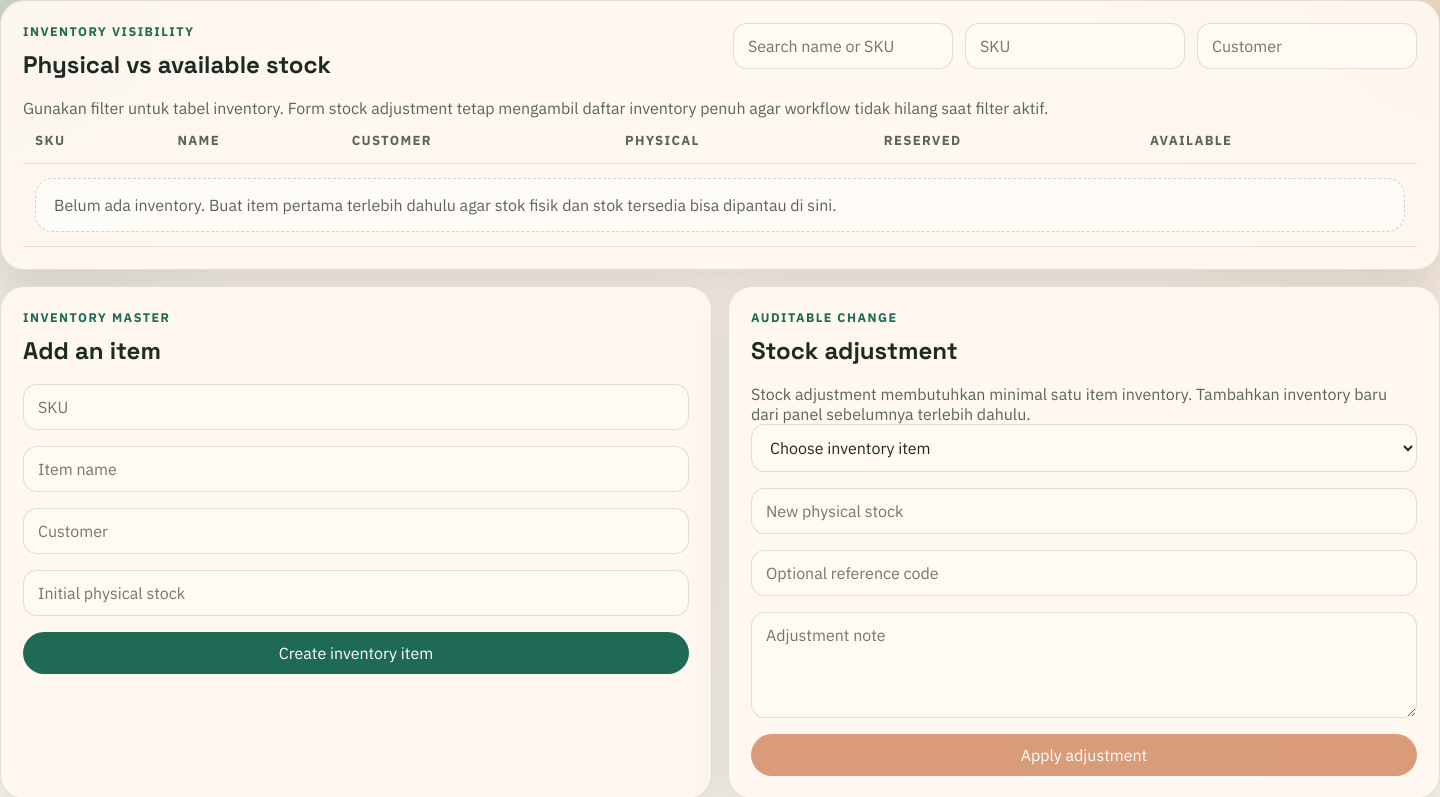
Test: InventoryPage › dismisses the feedback banner when the close button is clicked
Expected: the form "Create inventory item" is shown, [23,384,689,674]
Type "SKU-001" into the field with placeholder "SKU" below "Add an item" at (356, 407), box [23,384,689,430]
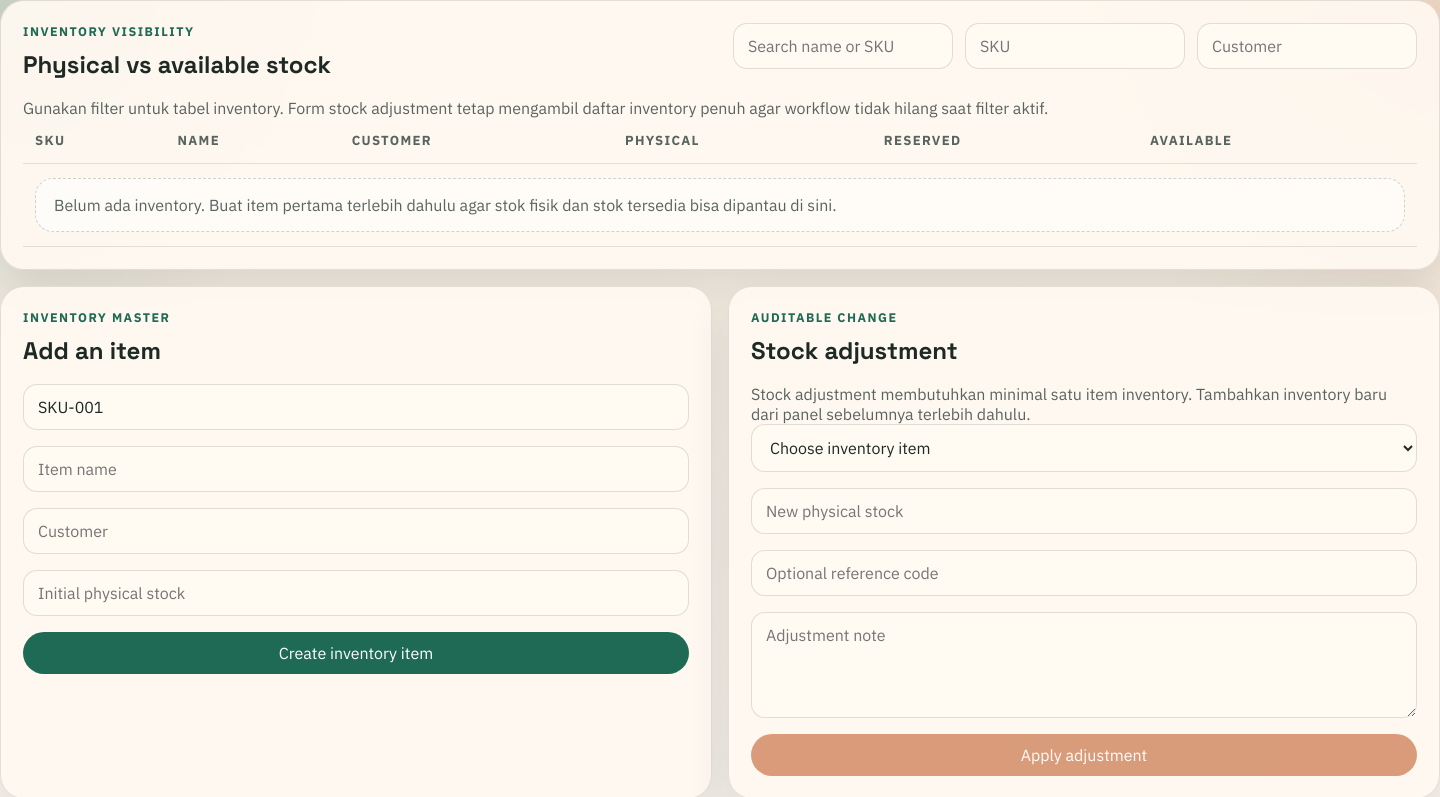
Type "Widget A" into the field with placeholder "Item name" at (356, 469), box [23,446,689,492]
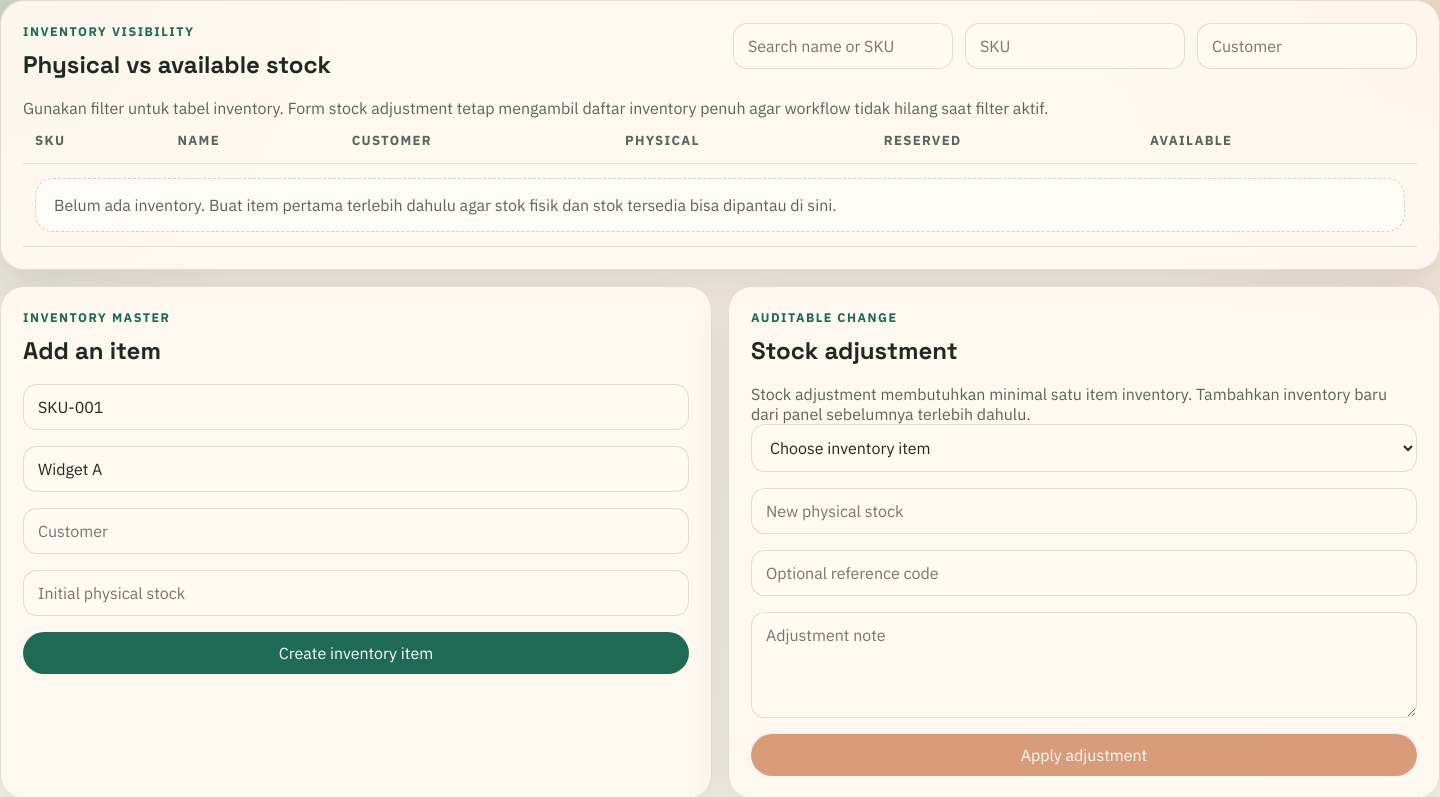
Type "Acme Corp" into the field with placeholder "Customer" below "Add an item" at (356, 531), box [23,508,689,554]
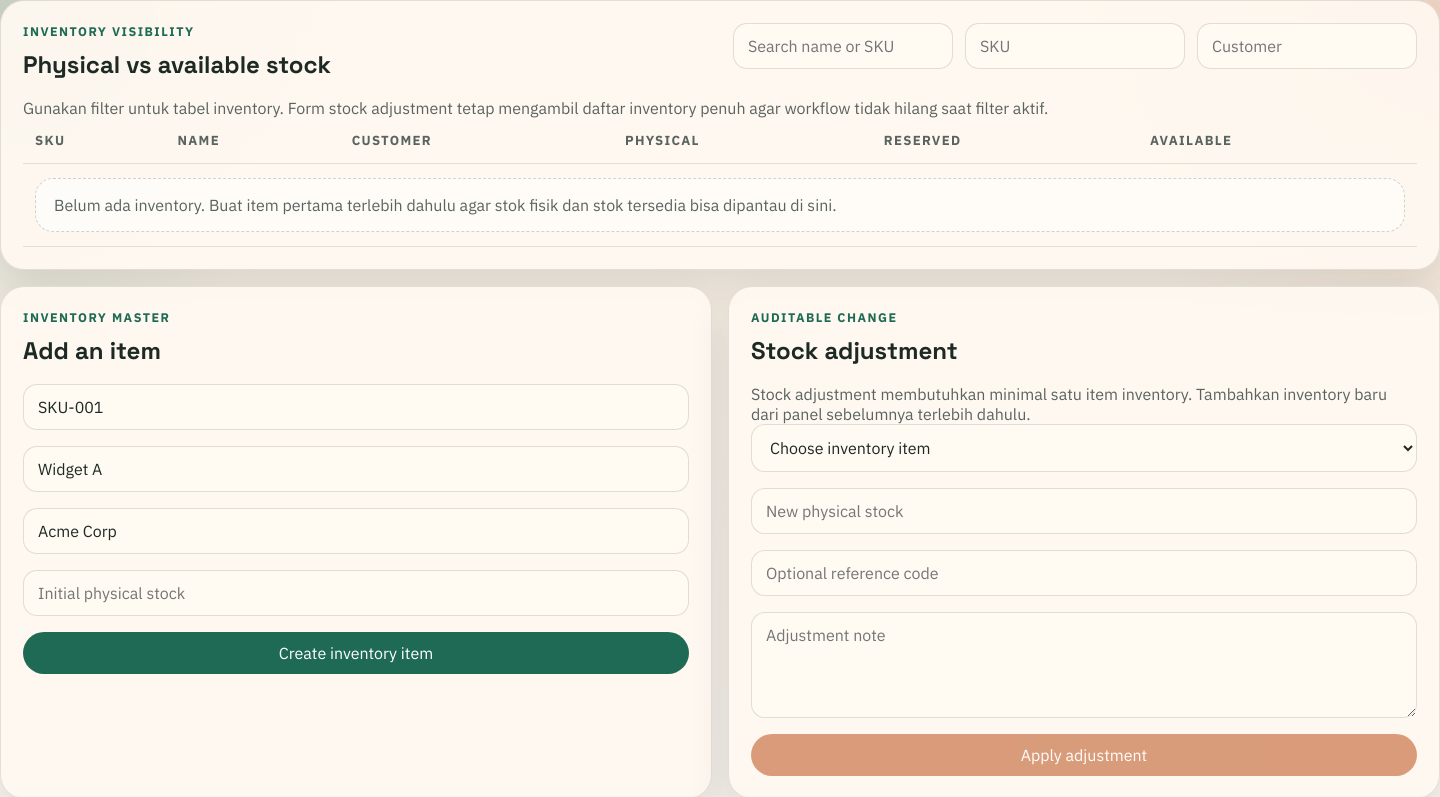
Type "100" into the number field with placeholder "Initial physical stock" at (356, 593), box [23,570,689,616]
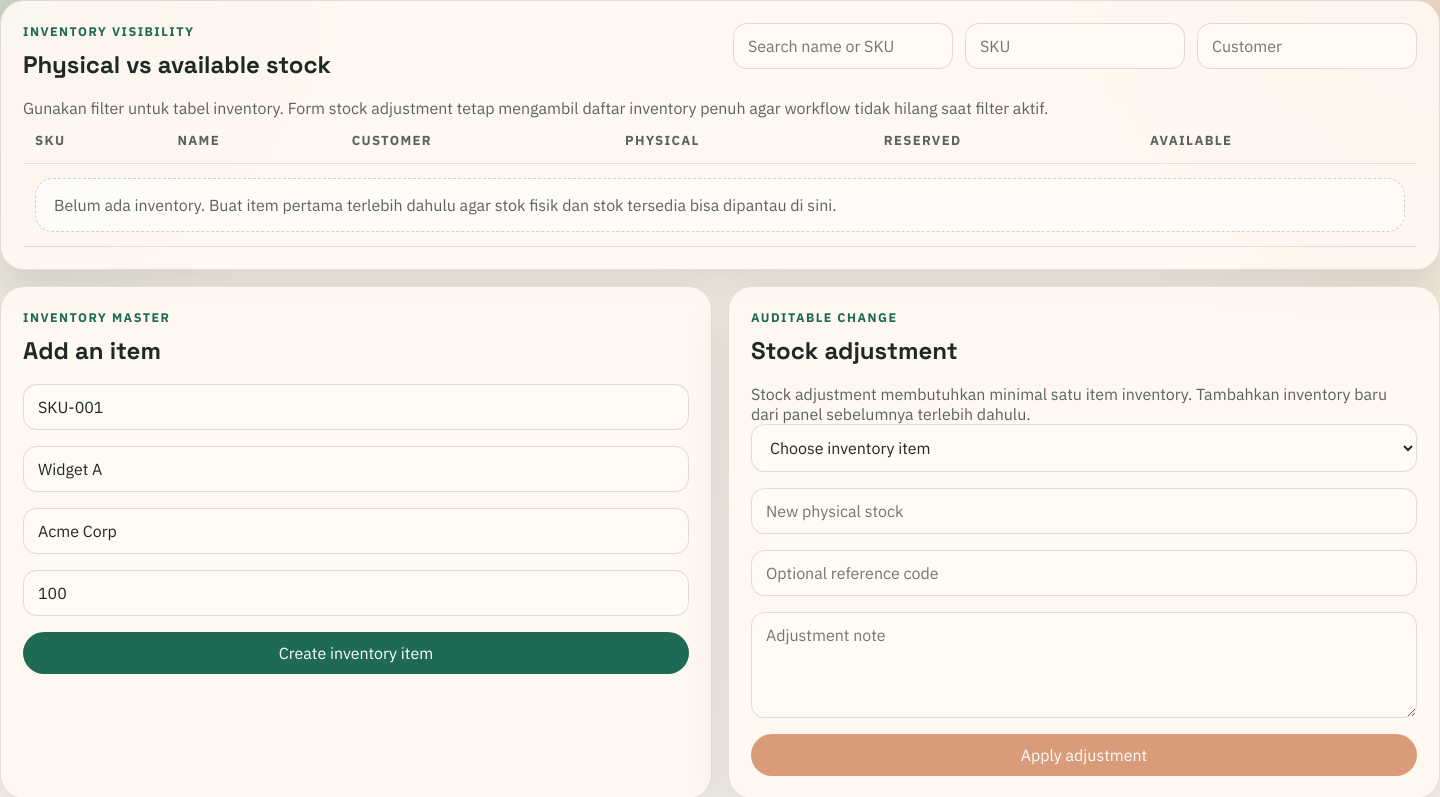
Click the button "Create inventory item" at (356, 653), box [23,632,689,674]
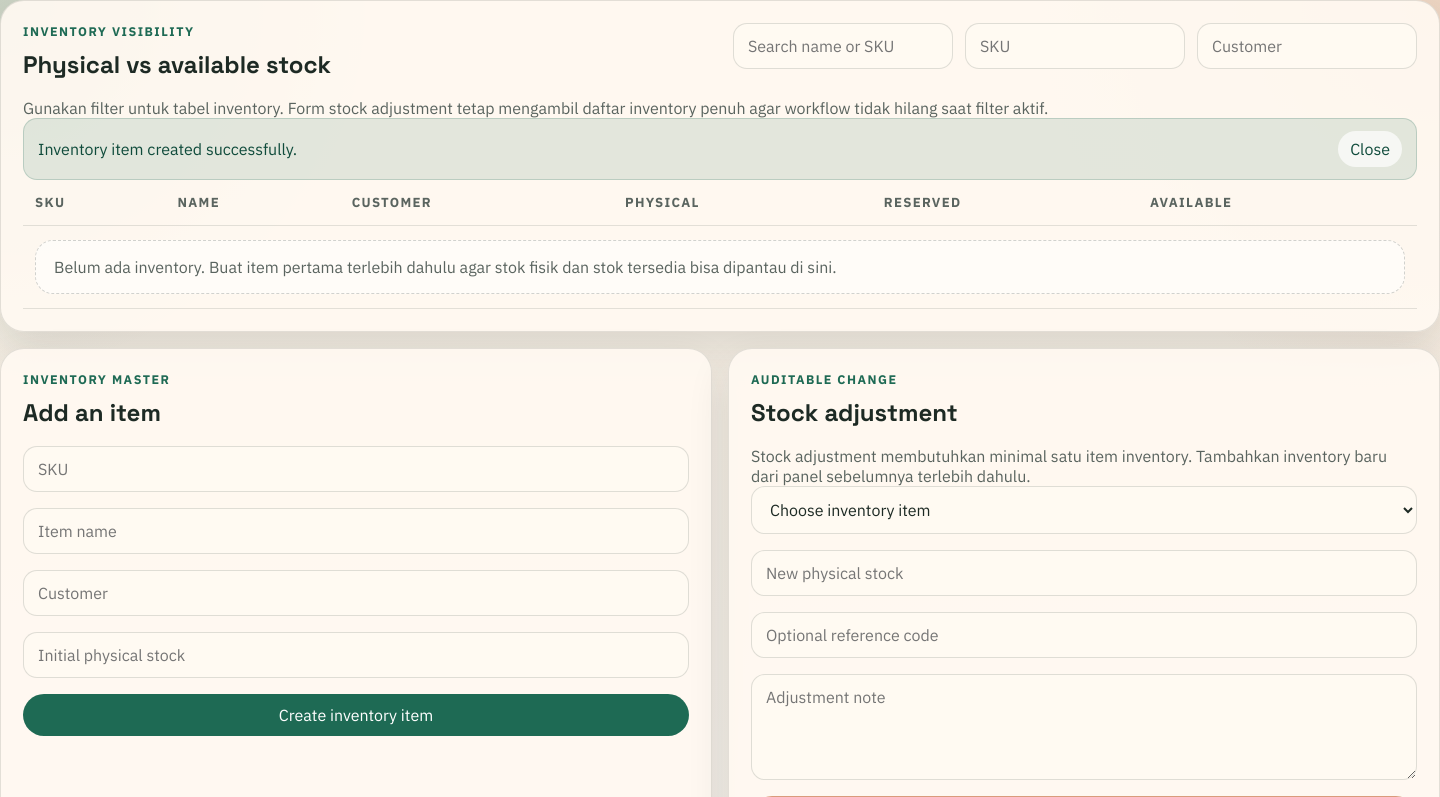
Now the text "Inventory item created successfully." is shown, box [38,139,297,159]
Click the button with aria-label "Dismiss notification" at (1370, 149), box [1338,131,1402,167]
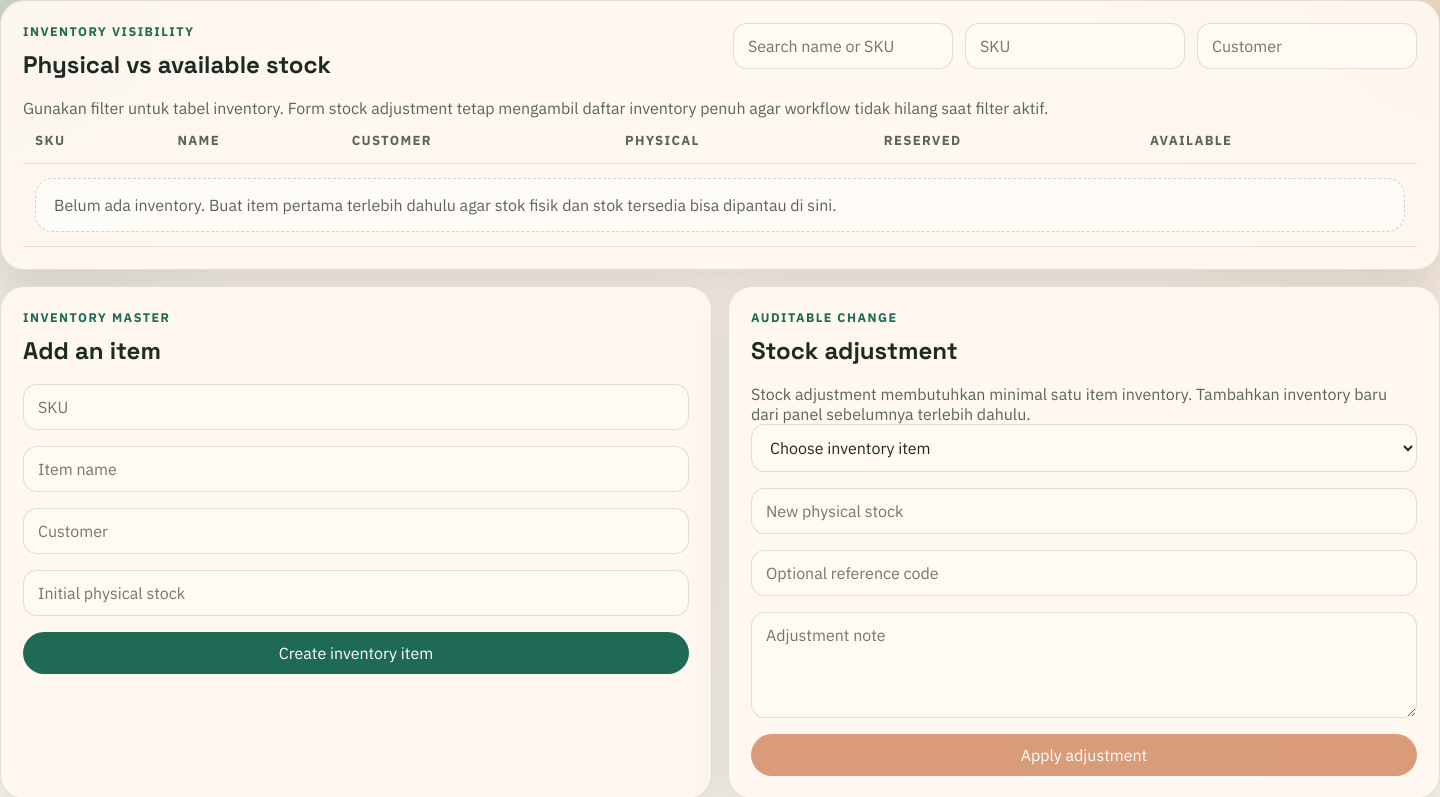
Now the text "Inventory item created successfully." is gone
